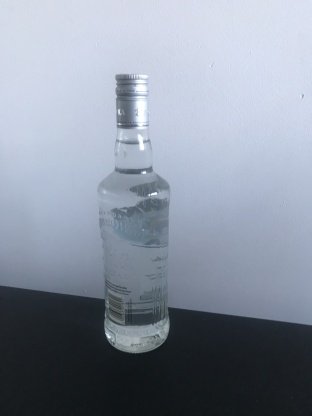nakretka: (114, 71, 150, 130)
